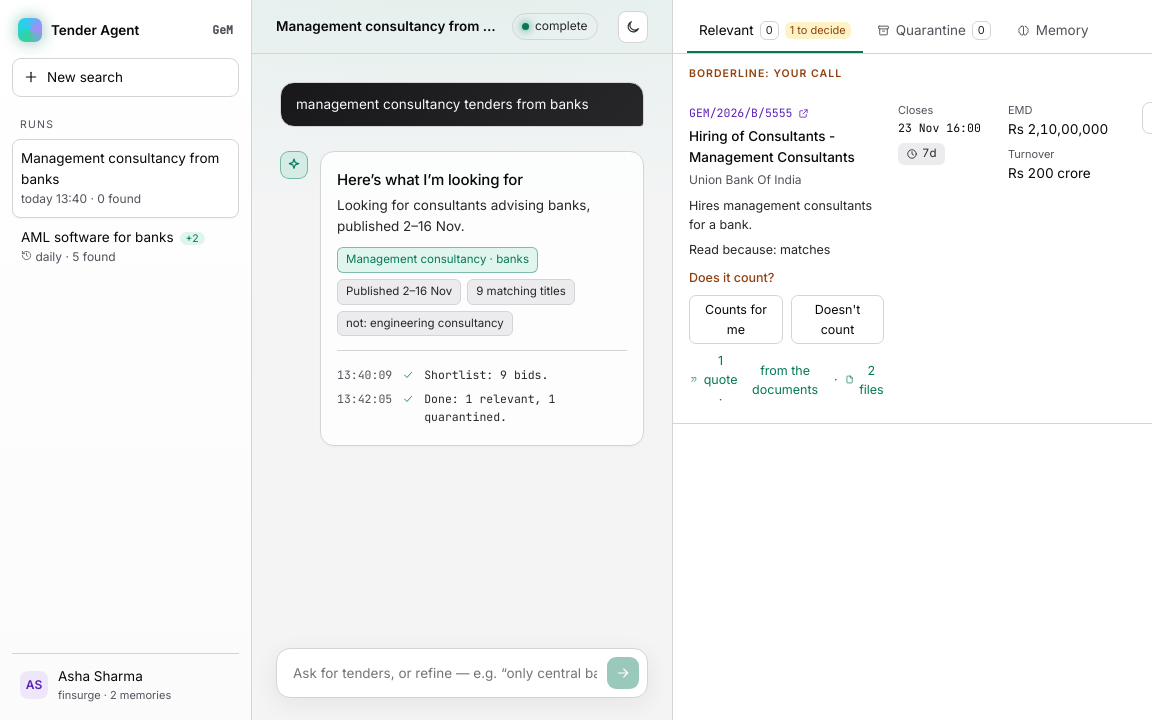
web chat › a ruling that comes back after another run was opened is not merged into it
Click the button "Counts for me": (736, 320) [689, 295, 783, 344]
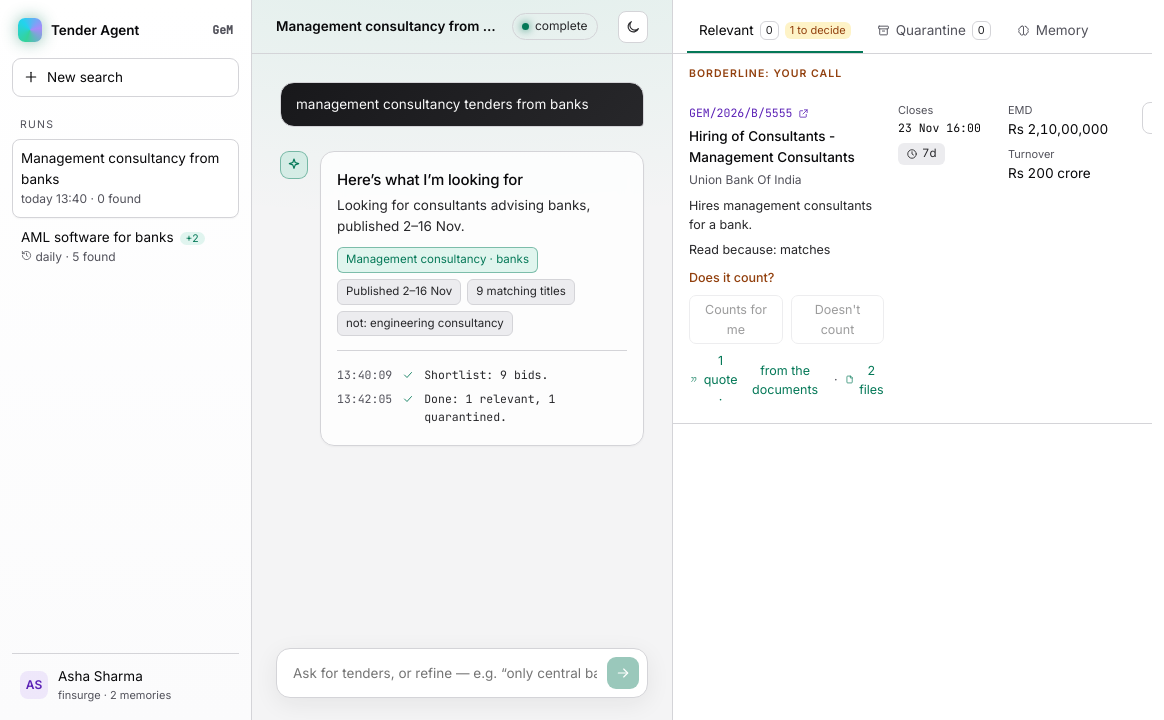
Click the text "AML software for banks": (126, 237) [21, 227, 230, 248]
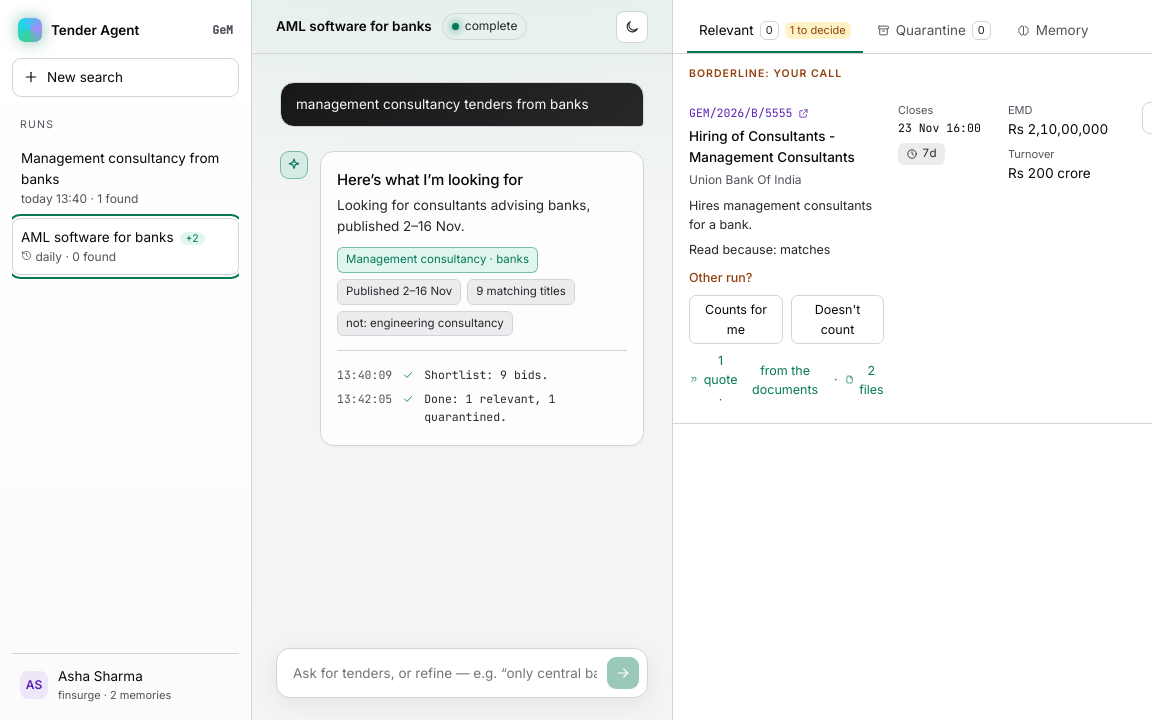
Check: the text "Other run?" is shown, box [689, 270, 752, 285]
